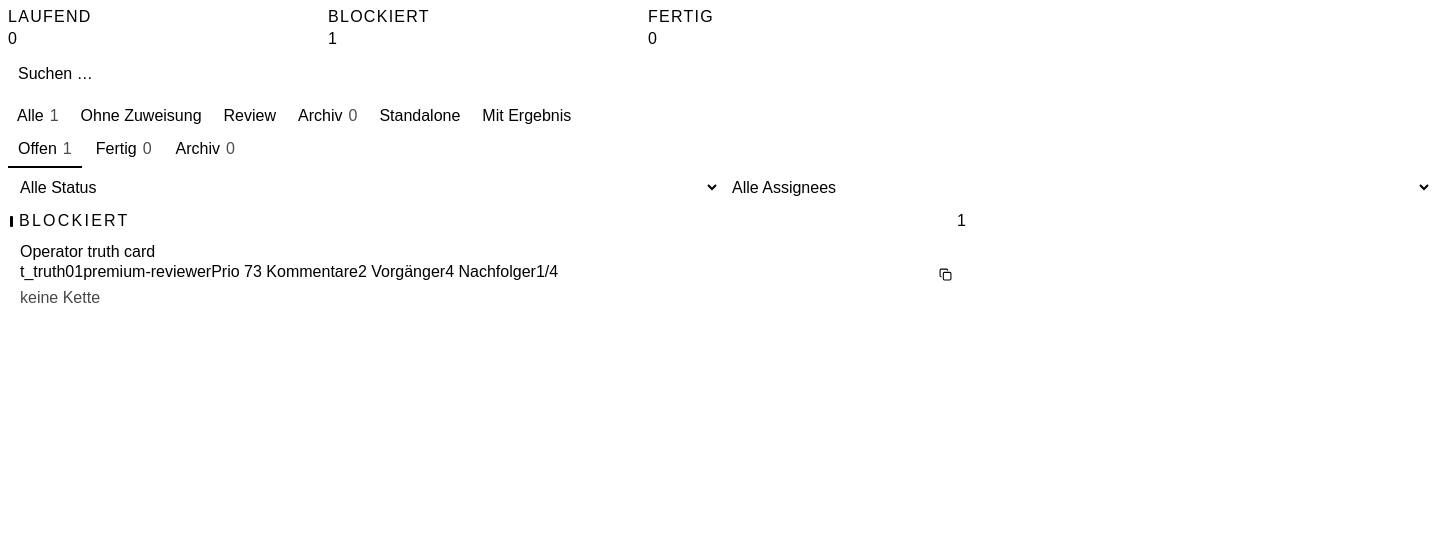
BoardTab operator information › loads the archive separately, reports counts, and follows the cursor
What coordinates should you click on to do the following:
click the tab "Archiv 0"
I would click on:
 (205, 150)
Its box is x1=166 y1=132 x2=245 y2=168.
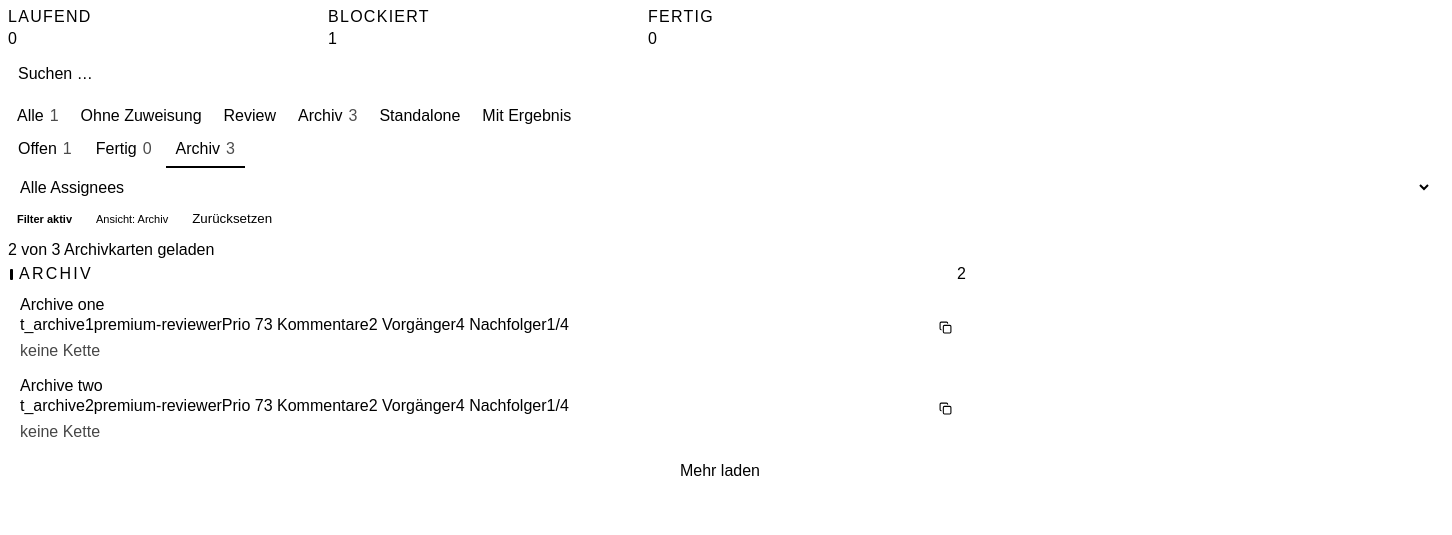
Expected: the text "Archive one" is shown, x1=20 y1=296 x2=104 y2=314
Expected: the button "Operator truth card" is gone
Expected: the text "2 von 3 Archivkarten geladen" is shown, x1=8 y1=241 x2=214 y2=259
What coordinates should you click on to do the following:
click the button with aria-label "Weitere Archivkarten laden"
I would click on:
 (720, 471)
Its box is x1=8 y1=449 x2=1432 y2=493.
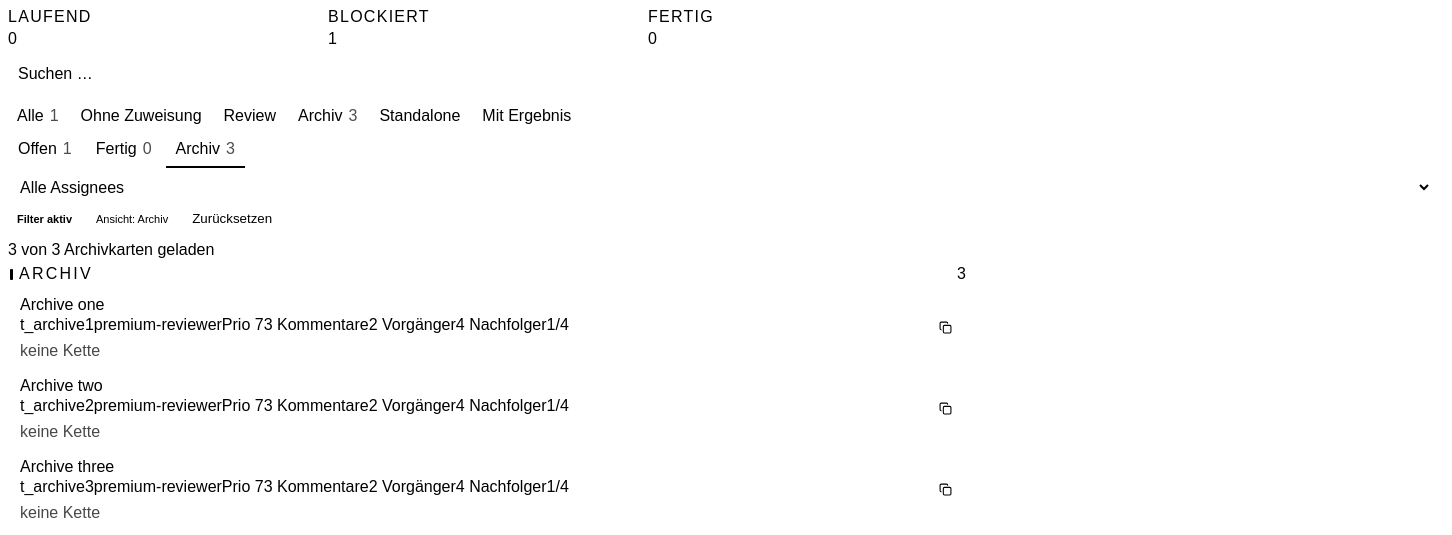
Expected: the text "Archive three" is shown, x1=20 y1=458 x2=114 y2=476
Expected: the text "3 von 3 Archivkarten geladen" is shown, x1=8 y1=241 x2=214 y2=259
